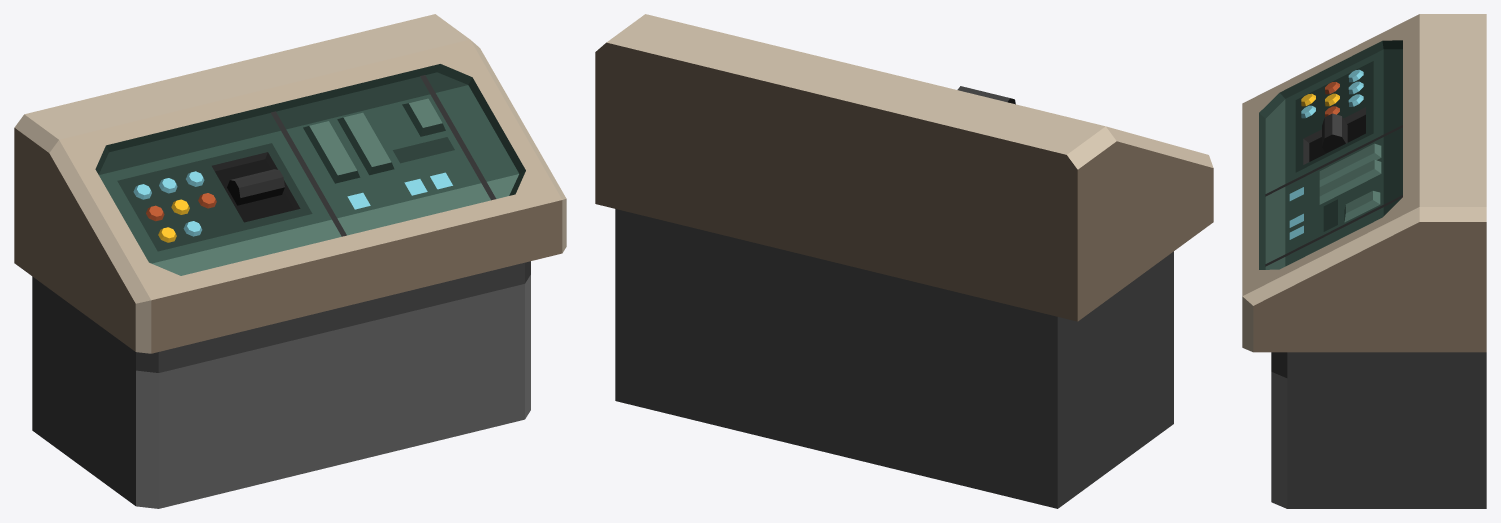
File: CR_Computer_PanelOnly.fbx
3 views of the same model, side by side, from view 1: azimuth 30°, elevation 25°; view 2: azimuth 150°, elevation 25°; view 3: azimuth 270°, elevation 25° (orthographic). The views are drawn at different scales.
Visible parts, largest first — view 1: CR_Computer_PanelOnly; view 2: CR_Computer_PanelOnly; view 3: CR_Computer_PanelOnly.
Boxes of the visible parts, <box> form: CR_Computer_PanelOnly: <box>14,14,566,508</box>; CR_Computer_PanelOnly: <box>595,14,1213,508</box>; CR_Computer_PanelOnly: <box>1242,14,1486,508</box>.
Size of the model in its own units: 1.32 by 0.9315 by 0.6741.
